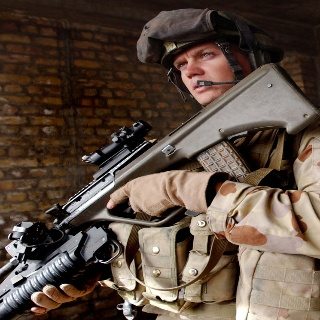rifle: (1, 63, 317, 318)
